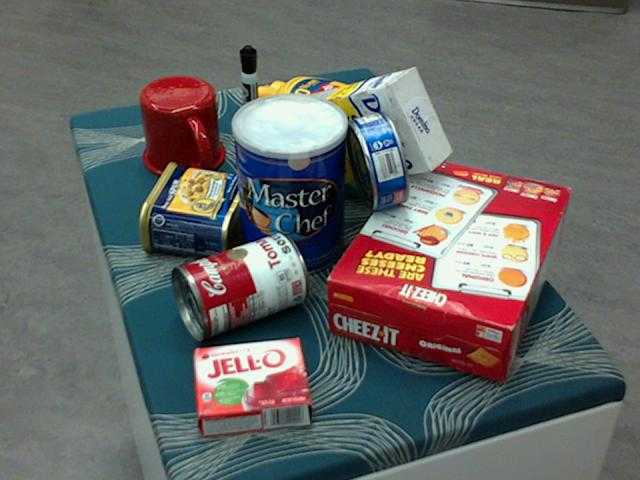cracker_box: (324, 155, 571, 380)
gelatin_box: (193, 337, 312, 435)
large_marker: (238, 44, 261, 147)
master_chef_can: (231, 94, 346, 279)
mug: (139, 75, 226, 179)
mustard_bottle: (254, 75, 419, 163)
potted_meat_can: (138, 162, 251, 258)
sugar_box: (273, 68, 451, 186)
tomato_soup_can: (170, 233, 307, 338)
tuna_fish_can: (346, 109, 410, 208)
